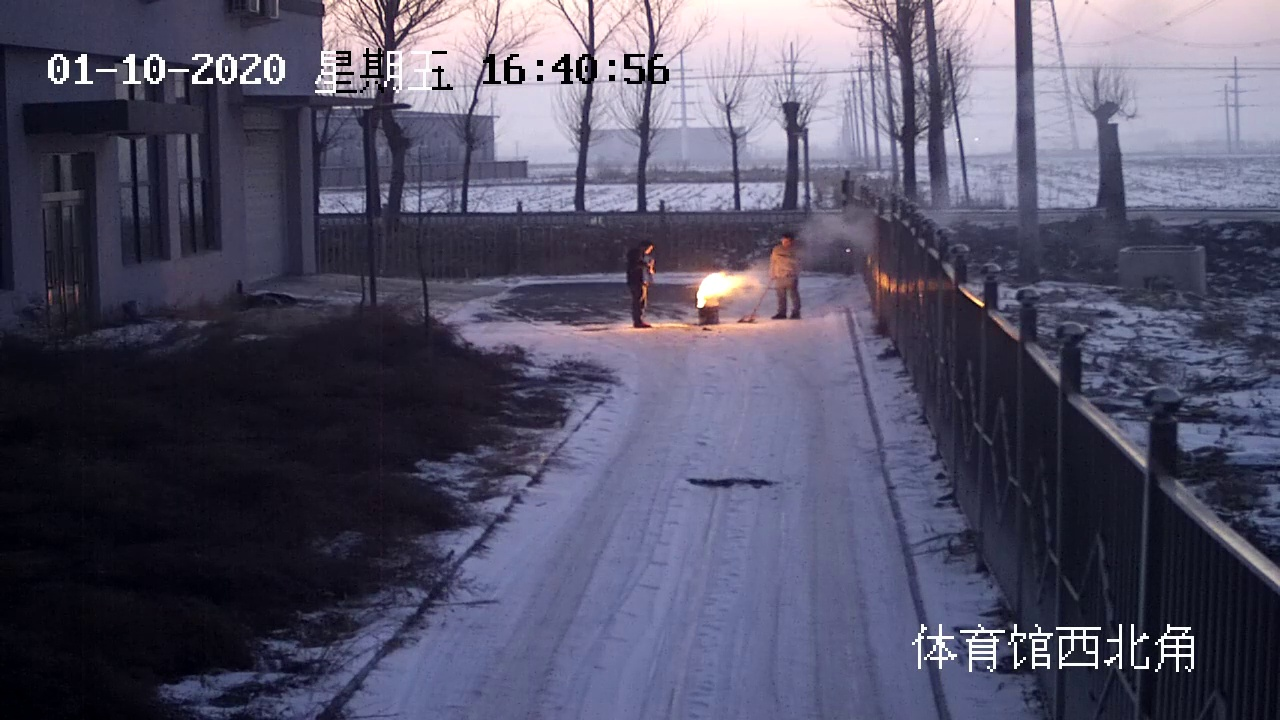fire: (690, 268, 745, 308)
